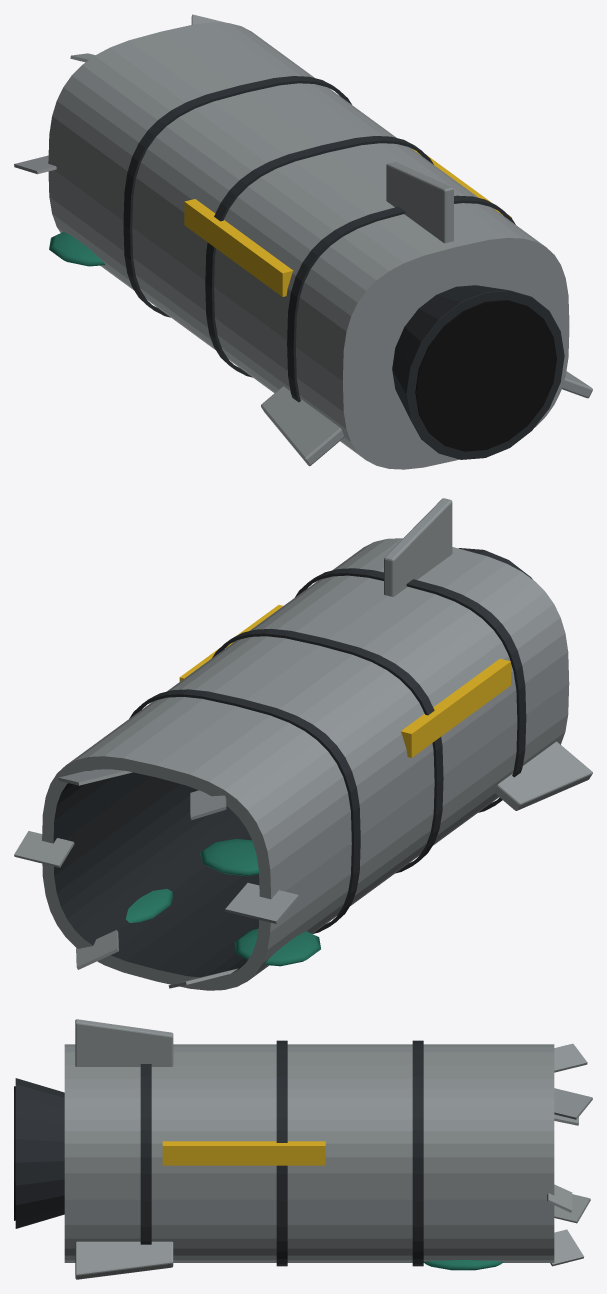
Rendered from site_dropship_rear.glb.
3 views of the same model, one above another, from view 1: azimuth 30°, elevation 25°; view 2: azimuth 150°, elevation 25°; view 3: azimuth 270°, elevation 25° (orthographic). The views are drawn at different scales.
Parts seen in each view (by area): view 1: fin210, bell, bell_in, stripe, moss0; view 2: fin210, bell, moss0, stripe; view 3: fin210, bell, stripe, moss0.
Part boxes in pixels (box(x1,y1,x2,y2)): fin210: box(14, 14, 592, 469); bell: box(123, 76, 564, 459); bell_in: box(415, 300, 556, 451); stripe: box(184, 149, 511, 296); moss0: box(49, 232, 104, 266); fin210: box(14, 498, 592, 990); bell: box(129, 548, 532, 933); moss0: box(126, 838, 320, 966); stripe: box(179, 605, 510, 757); fin210: box(64, 1019, 592, 1279); bell: box(15, 1040, 423, 1266); stripe: box(162, 1141, 325, 1165); moss0: box(423, 1260, 503, 1270).
Size of the model in its own units: 5.08 by 4.56 by 10.64.
